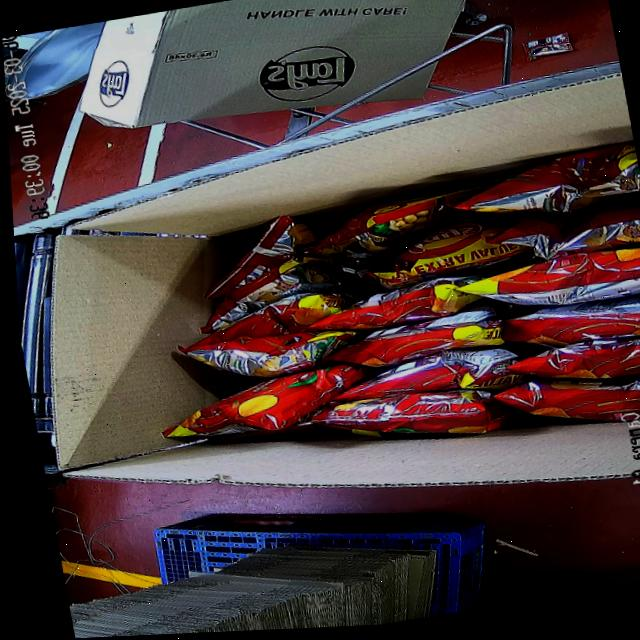MASALA: (121, 139, 640, 499)
